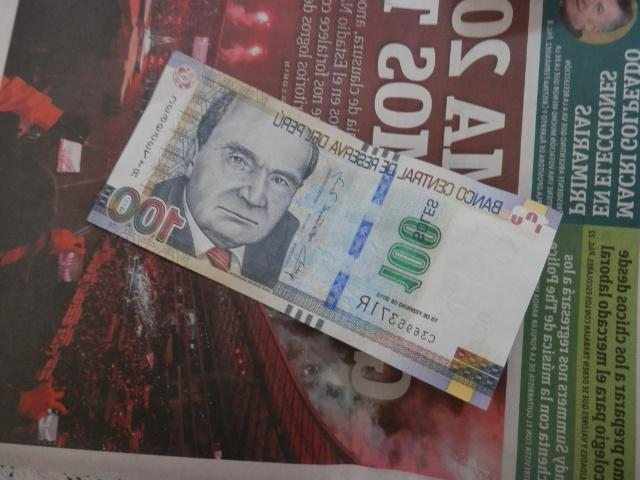B100: (87, 51, 560, 410)
